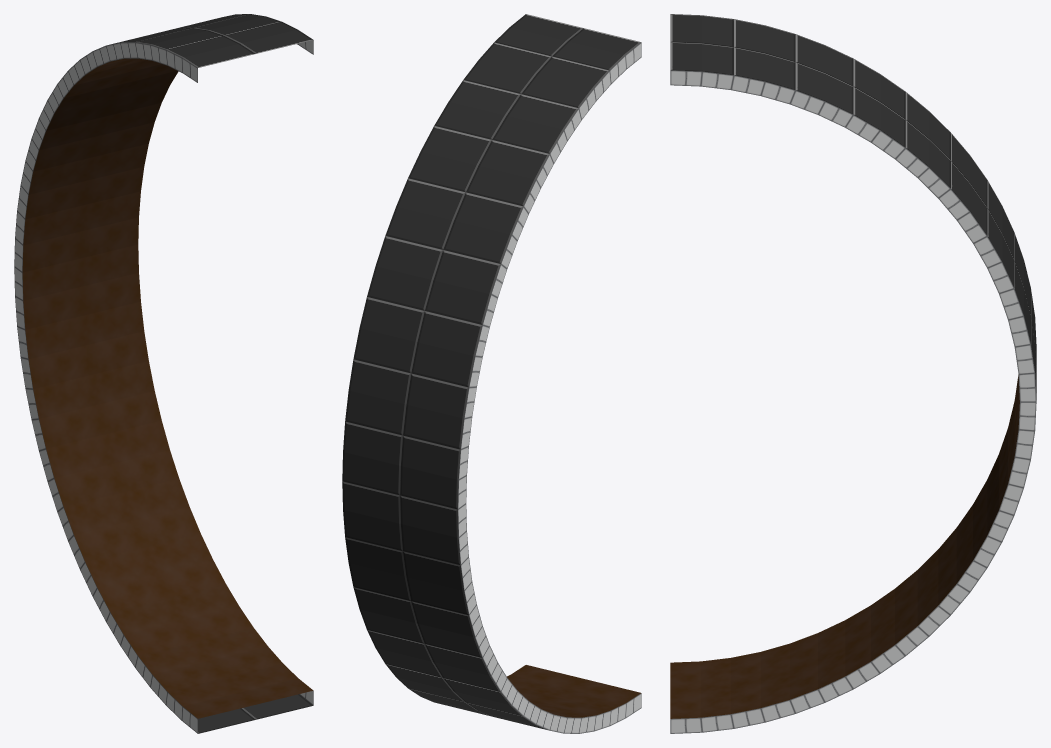
File: MudnessBMCurve.obj
3 views of the same model, side by side, from view 1: azimuth 30°, elevation 25°; view 2: azimuth 150°, elevation 25°; view 3: azimuth 270°, elevation 25° (orthographic).
Parts seen in each view (by area): view 1: MudnessBMCurve; view 2: MudnessBMCurve; view 3: MudnessBMCurve.
Boxes of the visible parts, x1=… form: MudnessBMCurve: x1=14, y1=14, x2=313, y2=733; MudnessBMCurve: x1=342, y1=14, x2=641, y2=733; MudnessBMCurve: x1=670, y1=14, x2=1036, y2=733.
Bounding box in the file's own units: 4 × 22 × 11.
